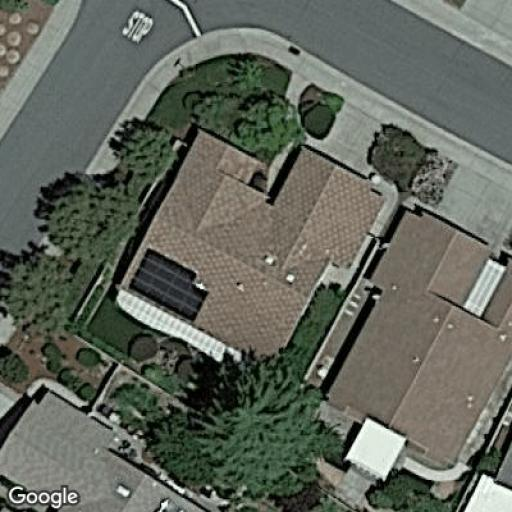solar-panel: (127, 247, 210, 324)
